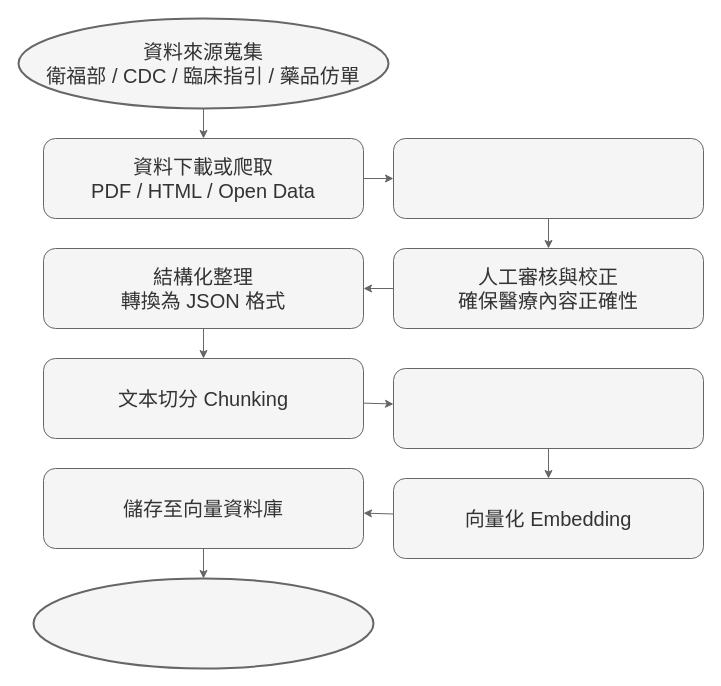
Image size: 721x686. Some labels were removed from this diagram. The shapes that lost their labels are listed below. From the top down, each one's box as (x1, y1, x2, y2) in pixels, then its label:
(392, 138, 704, 218): 資料清洗 去除廣告 / 格式雜訊 / 重複內容
(392, 368, 704, 448): Metadata 標註 疾病 / 症狀 / 來源 / 類型
(32, 577, 374, 669): 建立索引 Indexing 供 RAG 檢索使用
